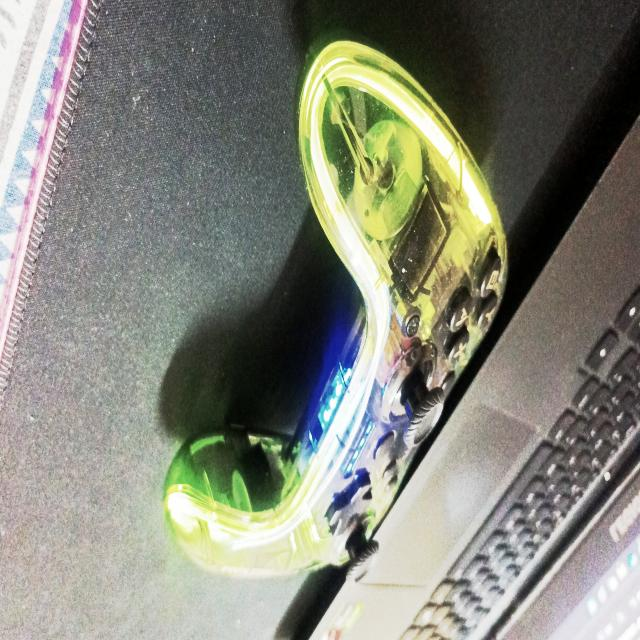gamepad: (162, 35, 510, 583)
